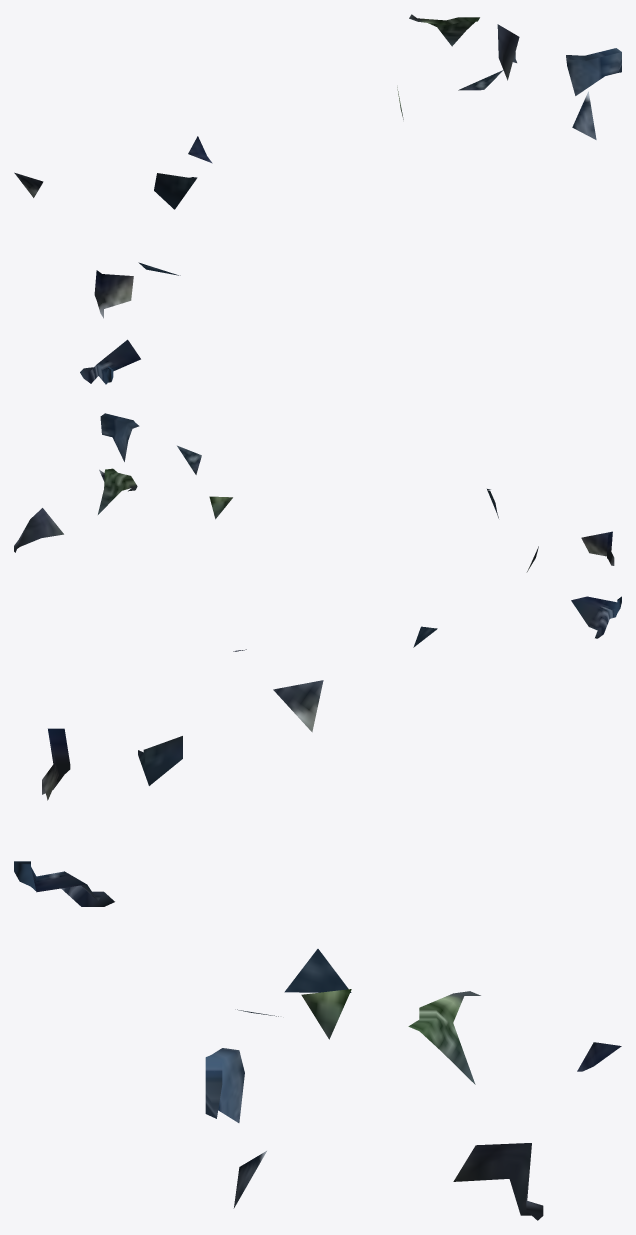
3 renders of one model, top to bottom at view 1: azimuth 30°, elevation 25°; view 2: azimuth 150°, elevation 25°; view 3: azimuth 270°, elevation 25°, orthographic. The views are drawn at different scales.
Visible parts, largest first — view 1: 30436272704370425412_1; view 2: 30436272704370425412_1; view 3: 30436272704370425412_1.
Boxes of the visible parts, x1,y1,x2,y2 form: 30436272704370425412_1: (14, 14, 621, 384); 30436272704370425412_1: (14, 413, 621, 651); 30436272704370425412_1: (14, 680, 621, 1220).
Bounding box in the file's own units: 27.31 × 7.4 × 16.66.
Materials: 1 (1 with a texture image).
